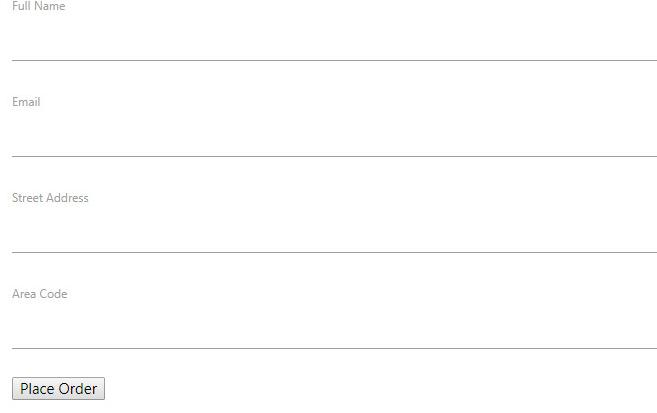button: (10, 375, 108, 402)
field_line: (9, 189, 657, 258), (8, 284, 657, 352), (9, 92, 657, 160), (7, 0, 657, 67)
